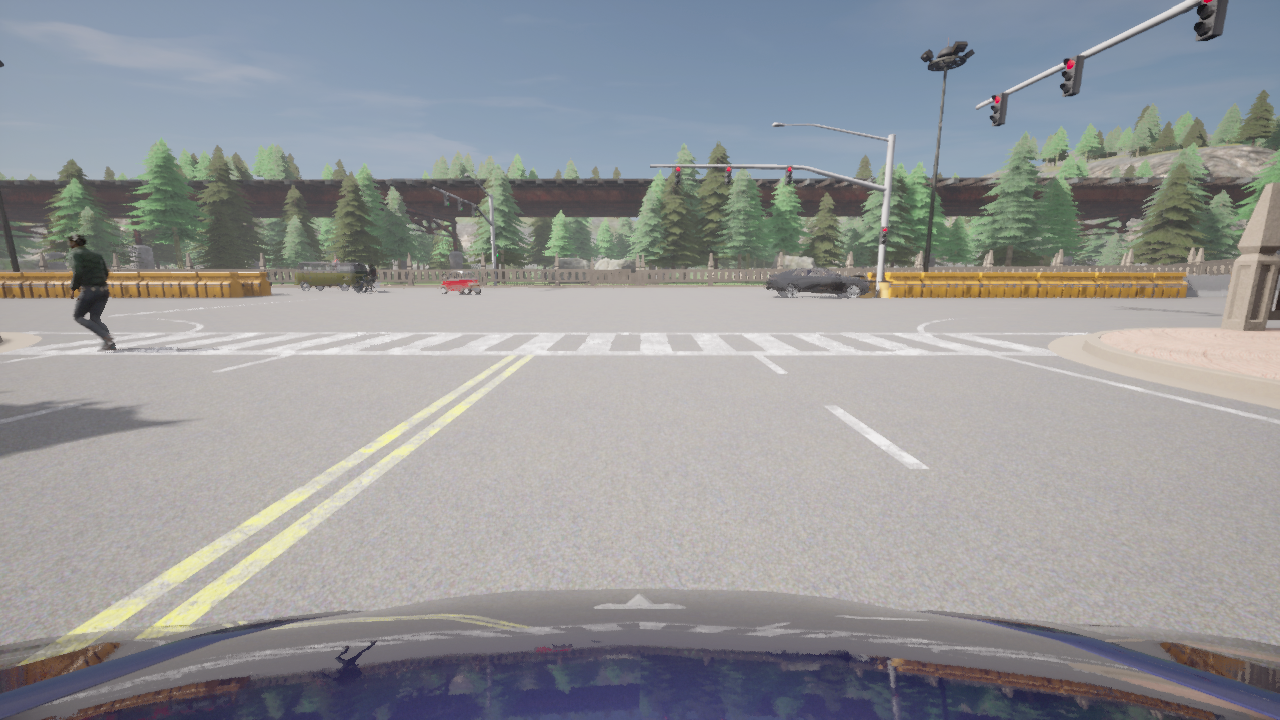cyclist: (0, 588, 1279, 719), (767, 267, 871, 298), (293, 261, 368, 291), (440, 270, 481, 295), (355, 275, 384, 292)
pedestrian: (65, 233, 116, 351), (277, 265, 284, 284)
